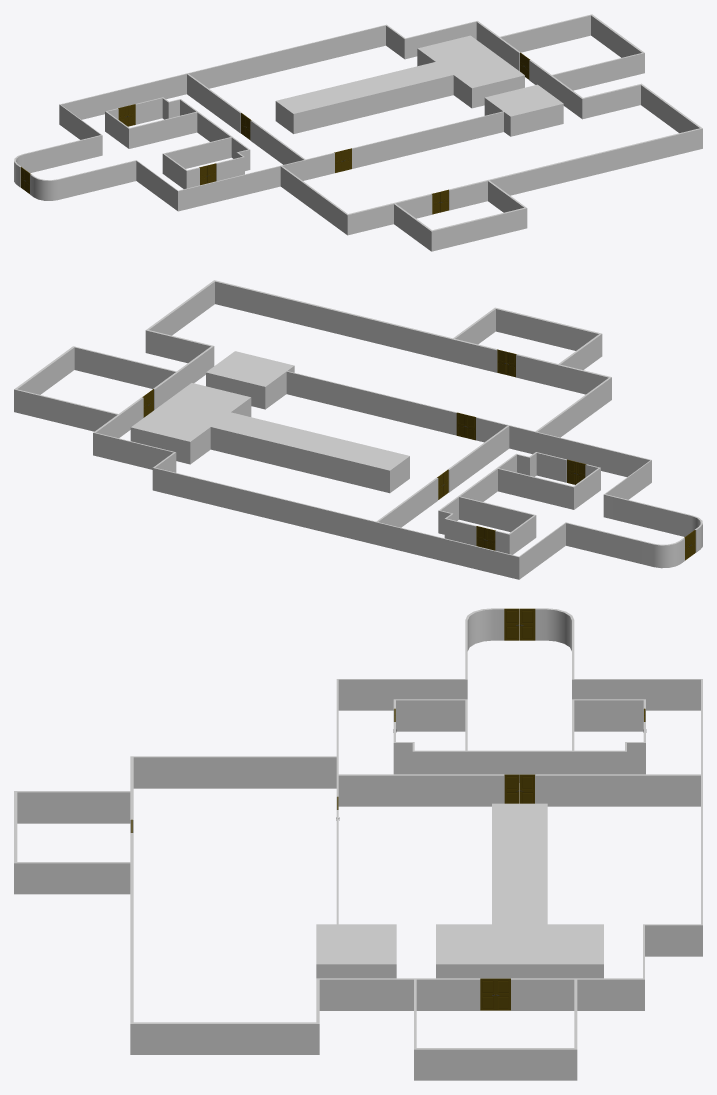
Rendered from Map.fbx.
3 views of the same model, one above another, from view 1: azimuth 30°, elevation 25°; view 2: azimuth 150°, elevation 25°; view 3: azimuth 270°, elevation 25° (orthographic). The views are drawn at different scales.
Parts seen in each view (by area): view 1: Walls; view 2: Walls; view 3: Walls.
Boxes of the visible parts, bbox=[...] form: Walls: bbox=[14, 14, 702, 251]; Walls: bbox=[14, 280, 702, 579]; Walls: bbox=[14, 608, 702, 1080].
Size of the model in its own units: 89.48 by 3.02 by 59.05.
